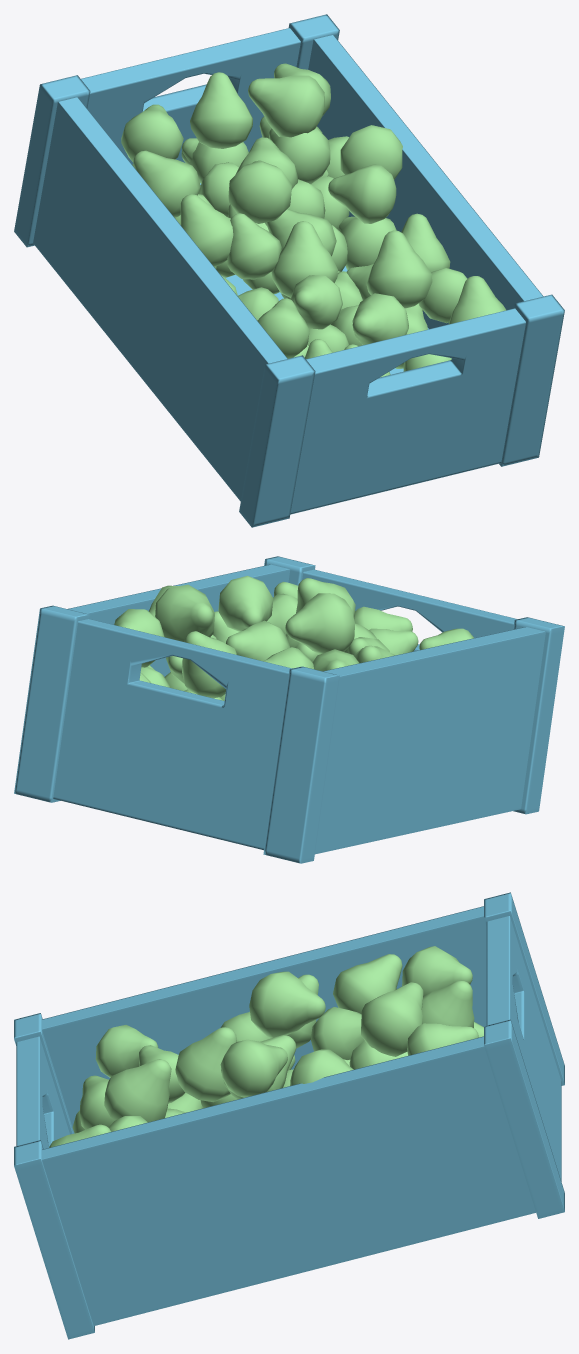
The model's file is crate of pears.fbx.
3 views of the same model, one above another, from view 1: azimuth 30°, elevation 25°; view 2: azimuth 150°, elevation 25°; view 3: azimuth 270°, elevation 25° (orthographic). The views are drawn at different scales.
Parts seen in each view (by area): view 1: Cube.007, Sphere.009; view 2: Cube.007, Sphere.009; view 3: Cube.007, Sphere.009.
Part boxes in pixels (<box>): Cube.007: <box>14,14,564,527</box>; Sphere.009: <box>121,63,505,377</box>; Cube.007: <box>14,556,564,863</box>; Sphere.009: <box>114,575,473,700</box>; Cube.007: <box>14,892,564,1339</box>; Sphere.009: <box>49,946,483,1147</box>.
Bounding box in the file's own units: 40.45 × 38.81 × 64.39.
